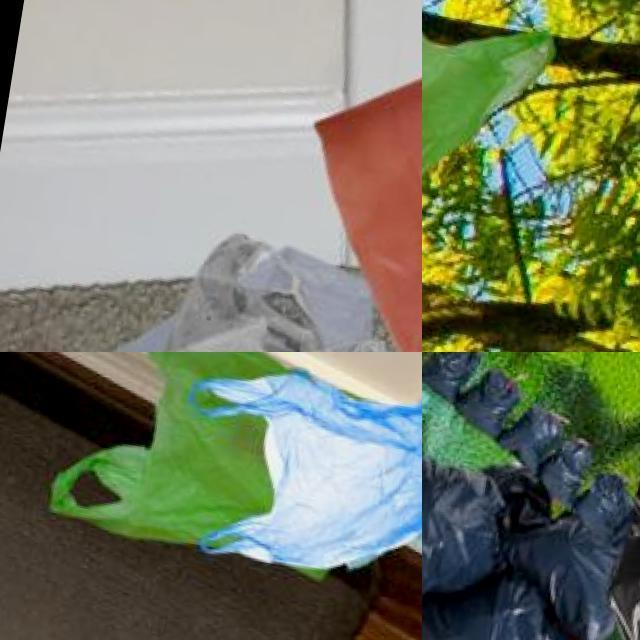waste: (42, 352, 373, 590), (193, 357, 422, 578), (29, 230, 422, 352), (422, 0, 573, 308), (286, 24, 422, 352), (493, 458, 636, 640), (422, 431, 526, 610), (422, 554, 580, 640), (422, 352, 508, 434), (530, 426, 592, 516), (572, 466, 632, 546), (461, 369, 526, 441), (512, 399, 566, 478), (422, 352, 486, 406)
